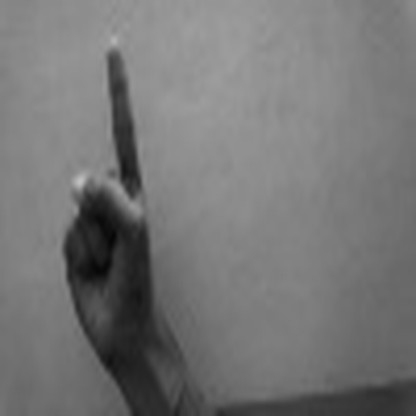d: (53, 29, 180, 357)
